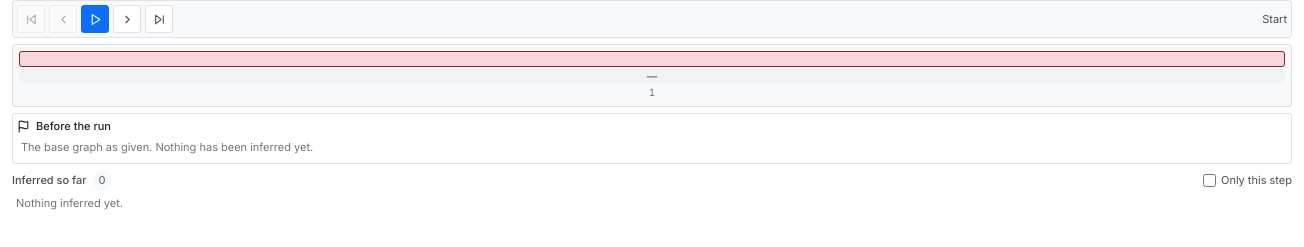
Test: RuleSetExecutionReplay › surfaces a rule error at the step it happened
Click the button with test id "replay-next" at (127, 19), box x1=113 y1=5 x2=141 y2=33
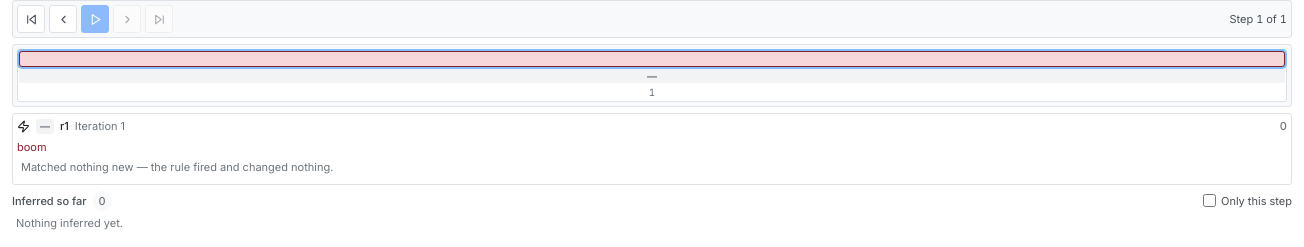
Expected: the element with test id "replay-current" shows "boom", x1=17 y1=140 x2=47 y2=154
